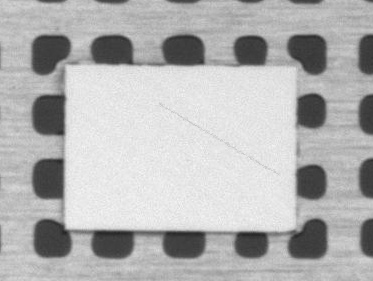DIE_CRACK: (212, 78, 369, 131)
